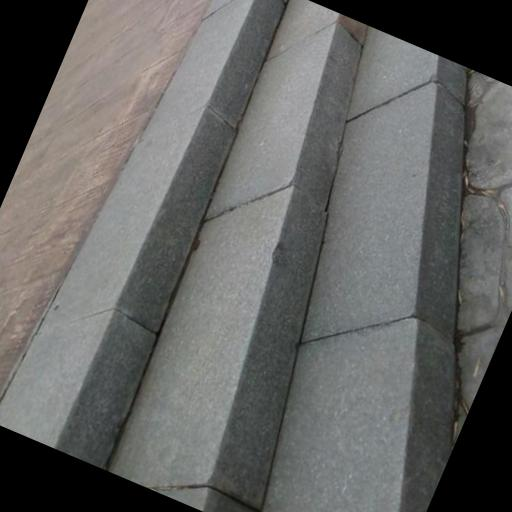stairs: (0, 0, 465, 511)
